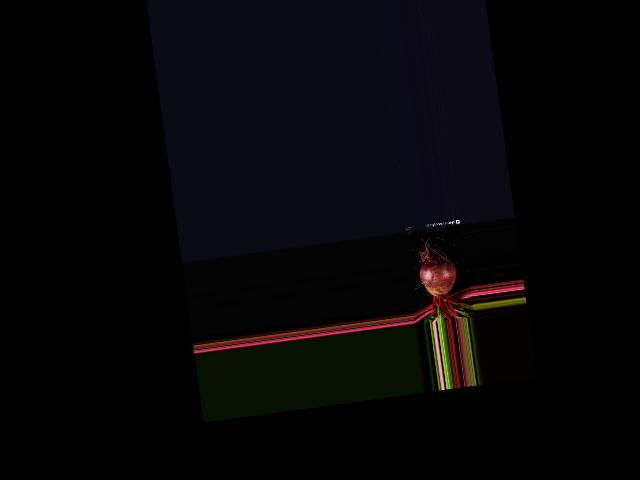beet: (413, 229, 475, 323)
